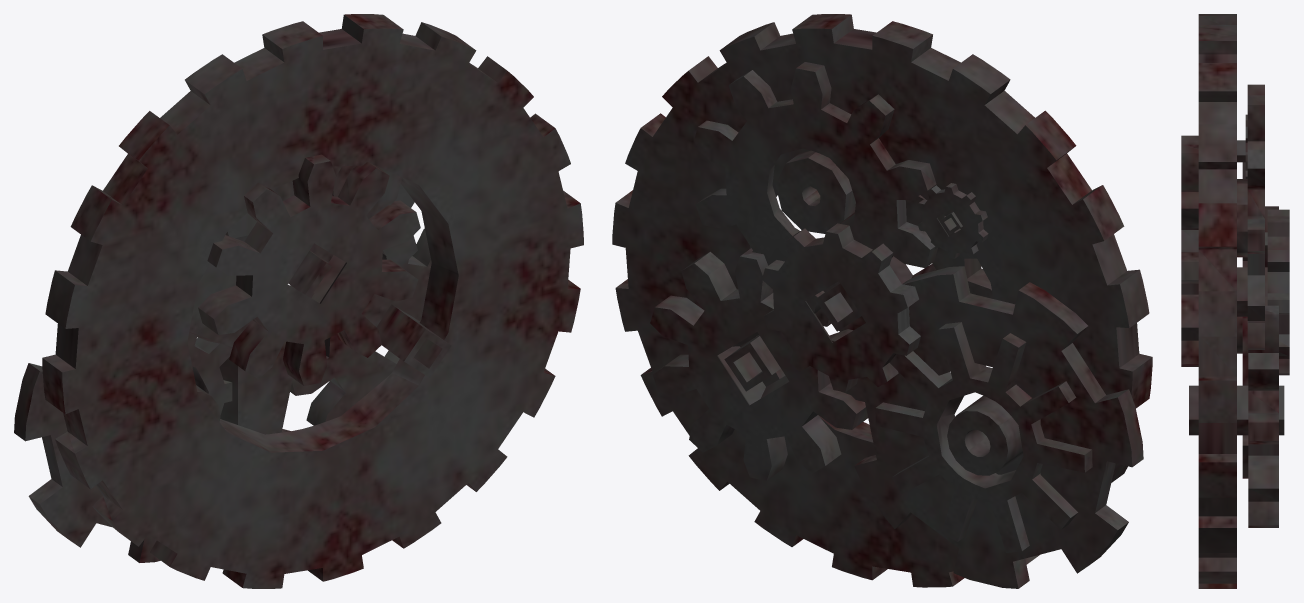
Rendered from Fogaskerekek.fbx.
The picture shows the model from 3 angles, left to right: view 1: azimuth 30°, elevation 25°; view 2: azimuth 150°, elevation 25°; view 3: azimuth 270°, elevation 25°; orthographic projection. The views are drawn at different scales.
Parts seen in each view (by area): view 1: Tube_4_1; view 2: Tube_4_1; view 3: Tube_4_1.
Boxes of the visible parts, bbox=[...] form: Tube_4_1: bbox=[14, 14, 583, 588]; Tube_4_1: bbox=[612, 14, 1152, 588]; Tube_4_1: bbox=[1181, 14, 1289, 588].
Size of the model in its own units: 522 by 508 by 95.62.
Materials: 1 (1 with a texture image).
